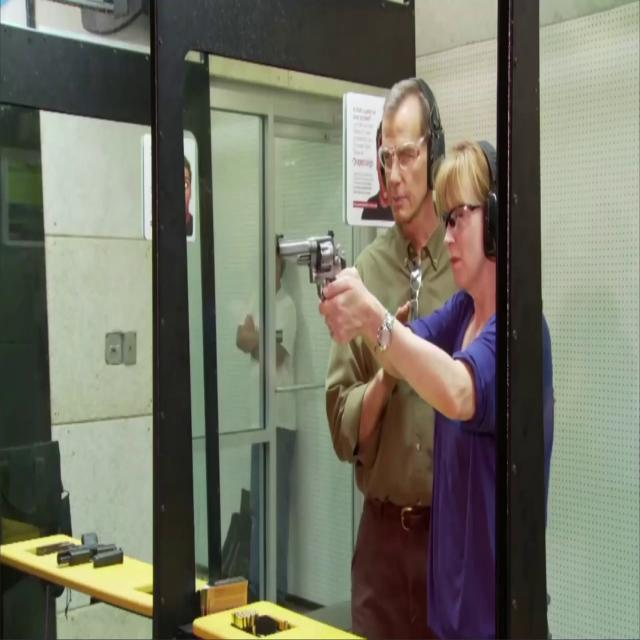Gun: (277, 230, 346, 304)
